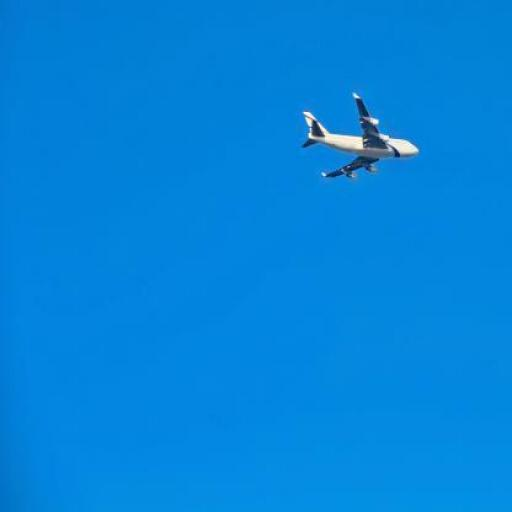aircraft: (294, 85, 421, 191)
